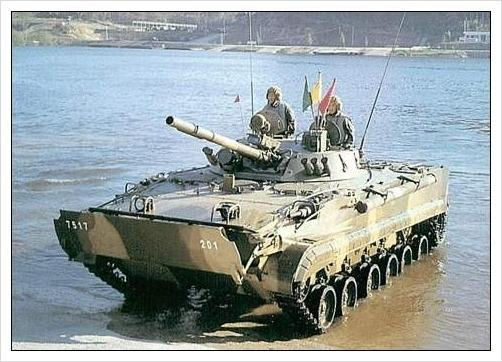MIL_IFV: (53, 78, 451, 330)
